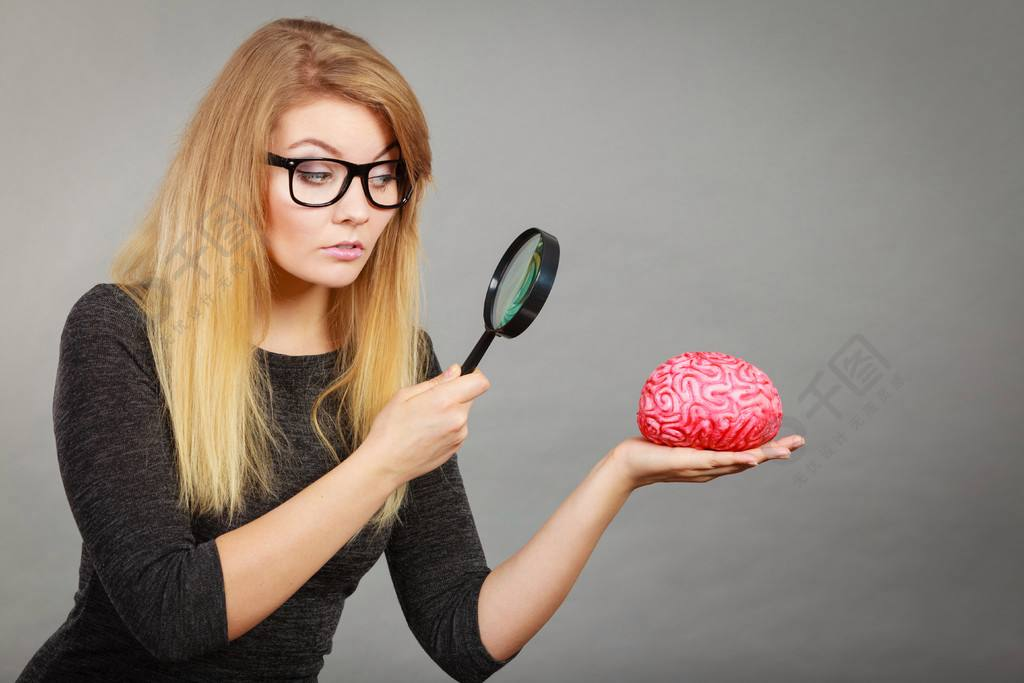no-phone: (351, 235, 566, 493)
